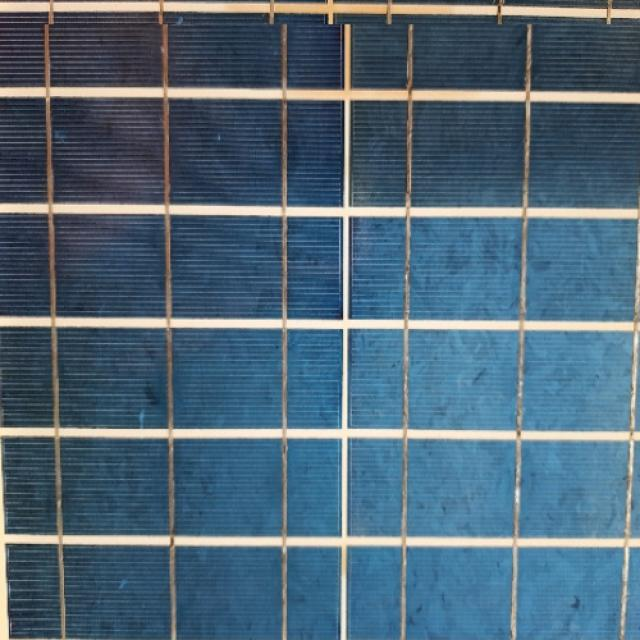Clean: (0, 24, 640, 640)
